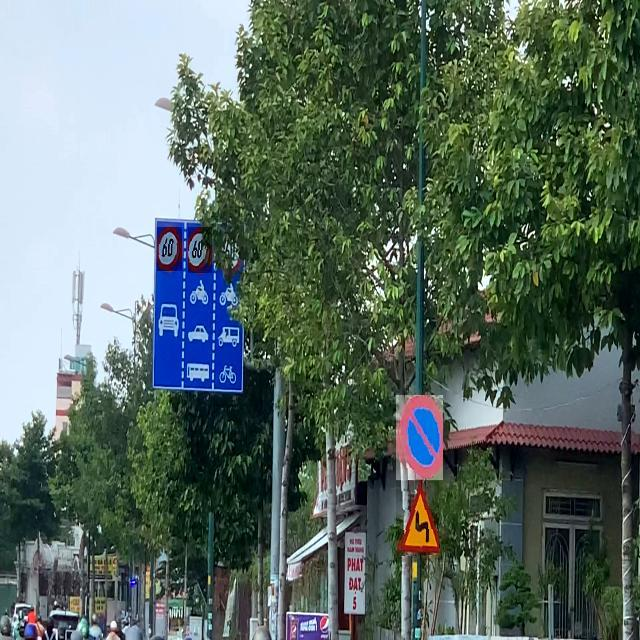P-127: (188, 227, 212, 273), (157, 227, 182, 271)
P-131a: (396, 395, 443, 480)
W-202a: (396, 481, 439, 556)
